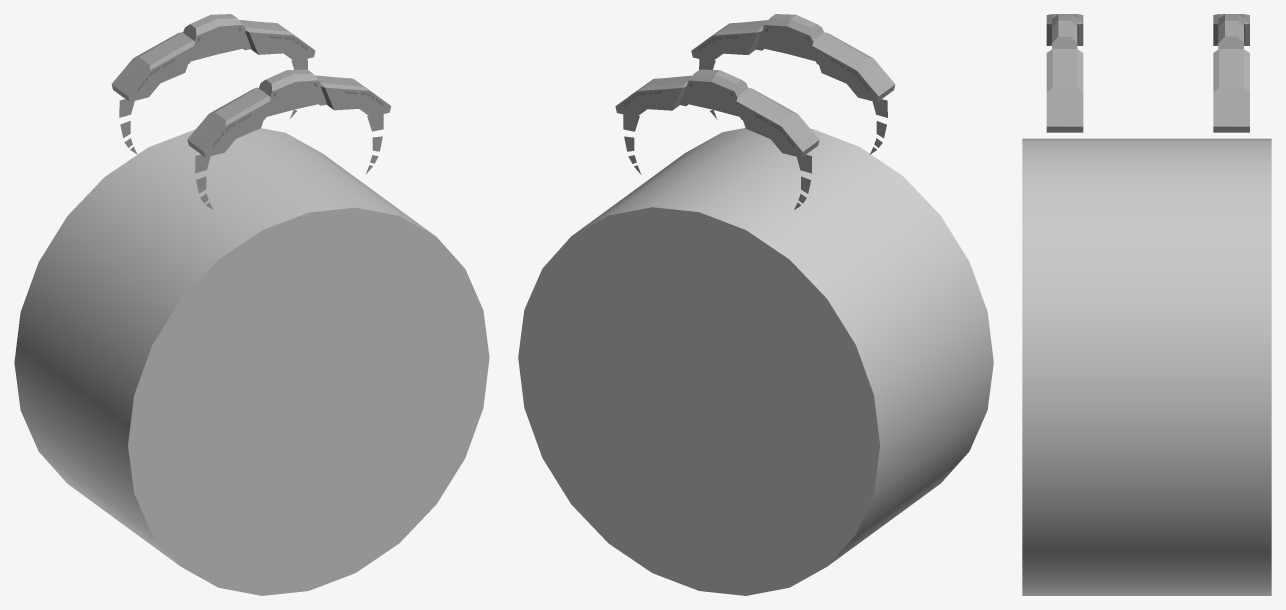
The model's file is LogRoller.fbx.
The picture shows the model from 3 angles, left to right: view 1: azimuth 30°, elevation 25°; view 2: azimuth 150°, elevation 25°; view 3: azimuth 270°, elevation 25°; orthographic projection. The views are drawn at different scales.
Parts seen in each view (by area): view 1: LogRoller, LogRollerFloaters; view 2: LogRoller, LogRollerFloaters; view 3: LogRoller, LogRollerFloaters.
Part boxes in pixels (<box>): LogRoller: <box>14,128,489,595</box>; LogRollerFloaters: <box>111,14,391,209</box>; LogRoller: <box>518,128,993,595</box>; LogRollerFloaters: <box>615,14,895,209</box>; LogRoller: <box>1022,138,1271,595</box>; LogRollerFloaters: <box>1046,14,1249,132</box>.
Bounding box in the file's own units: 18 × 24 × 9.79.
